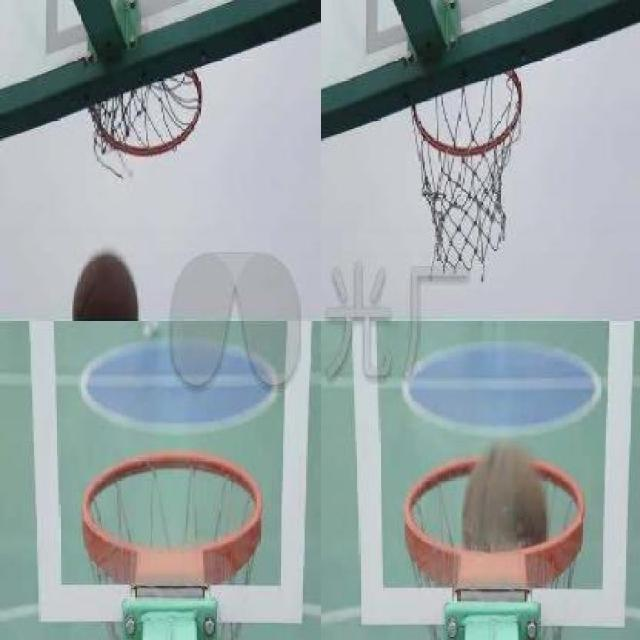rim: (412, 69, 522, 268)
